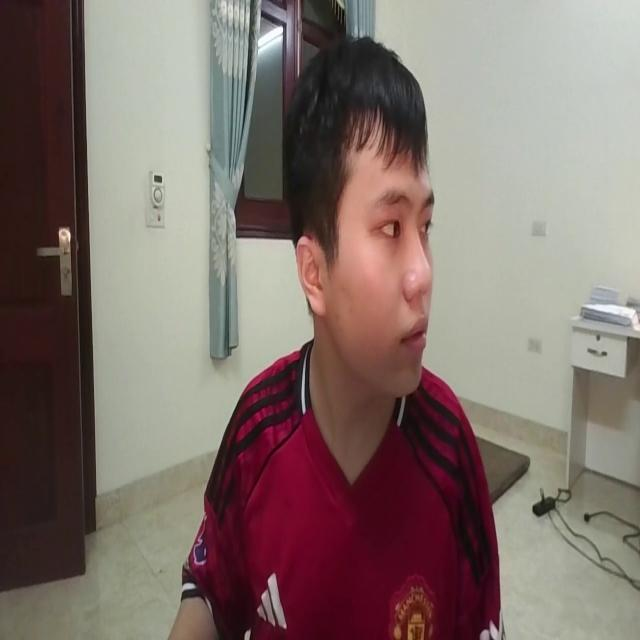student: (166, 32, 503, 640)
